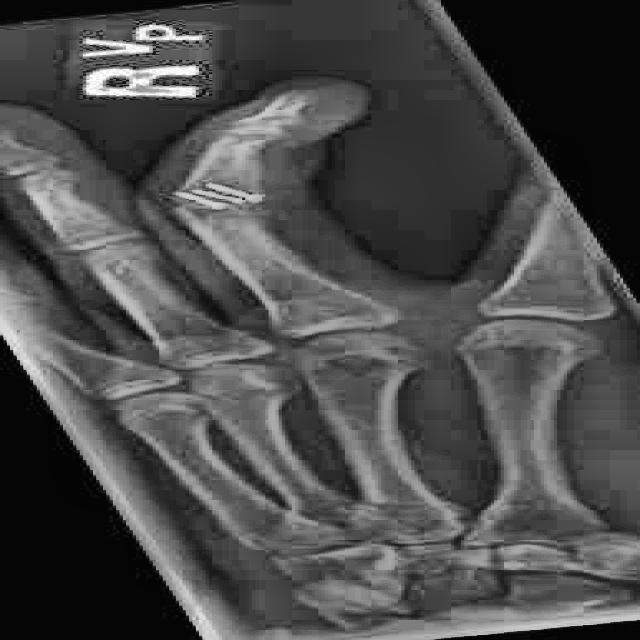fingers positive: (189, 102, 325, 189), (154, 199, 283, 233)
